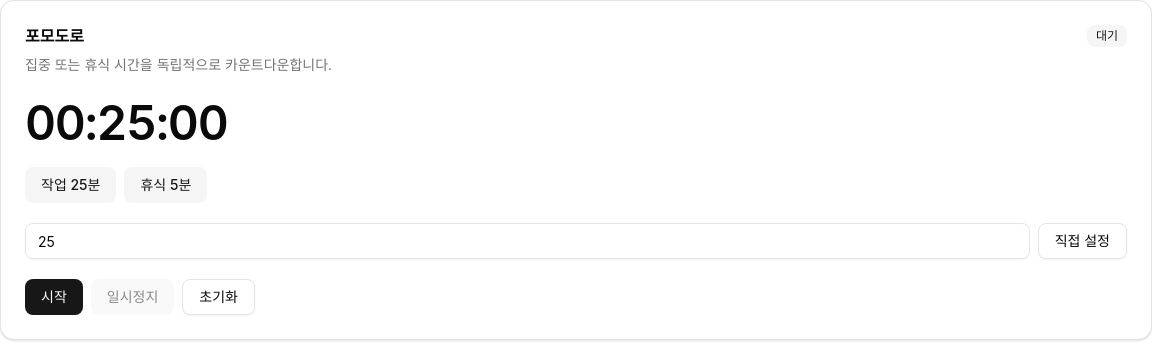
it: PomodoroCard › uses a custom minute countdown and plays its alarm when complete
Step 1. Replace the text in the number field named "직접 시간 (분)" with "1" → (527, 241), box [25,223,1030,259]
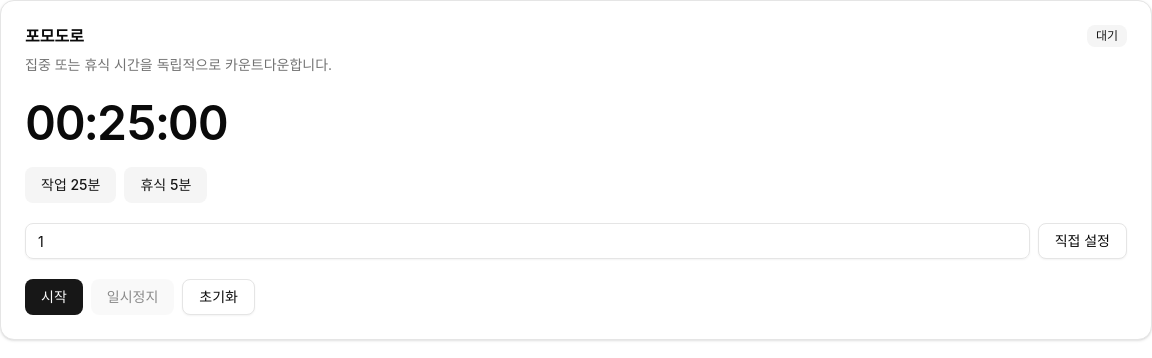
Step 2. Click the button "직접 설정" → click(1082, 241), box [1038,223,1127,259]
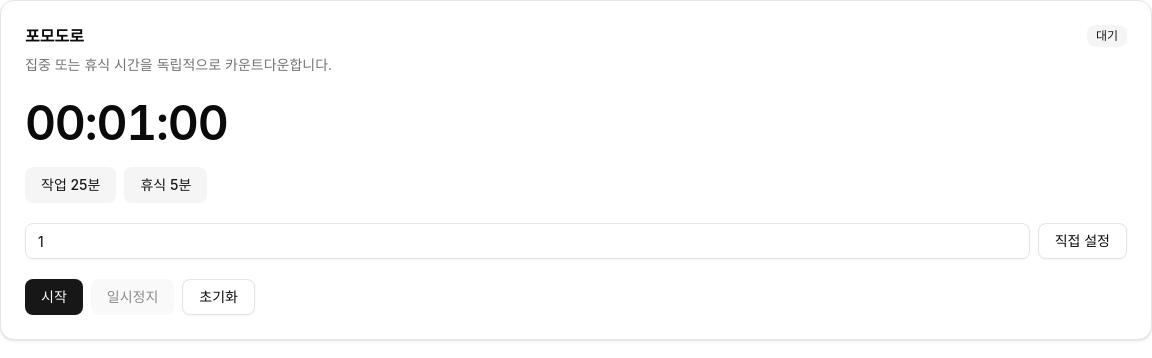
Step 3. Click the button "시작" → click(54, 297), box [25,279,83,315]
Wait 60000 ms
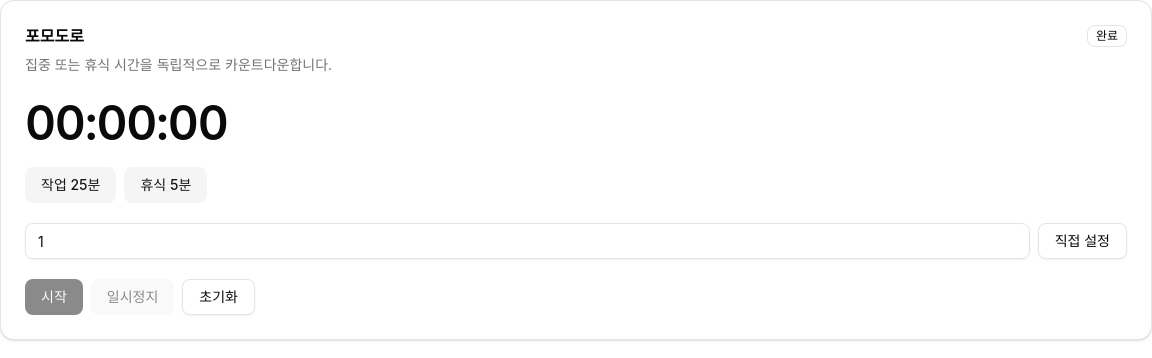
Result: the text "00:00:00" is shown at [25,93,228,152]
Result: the text "완료" is shown at [1087,25,1127,47]
